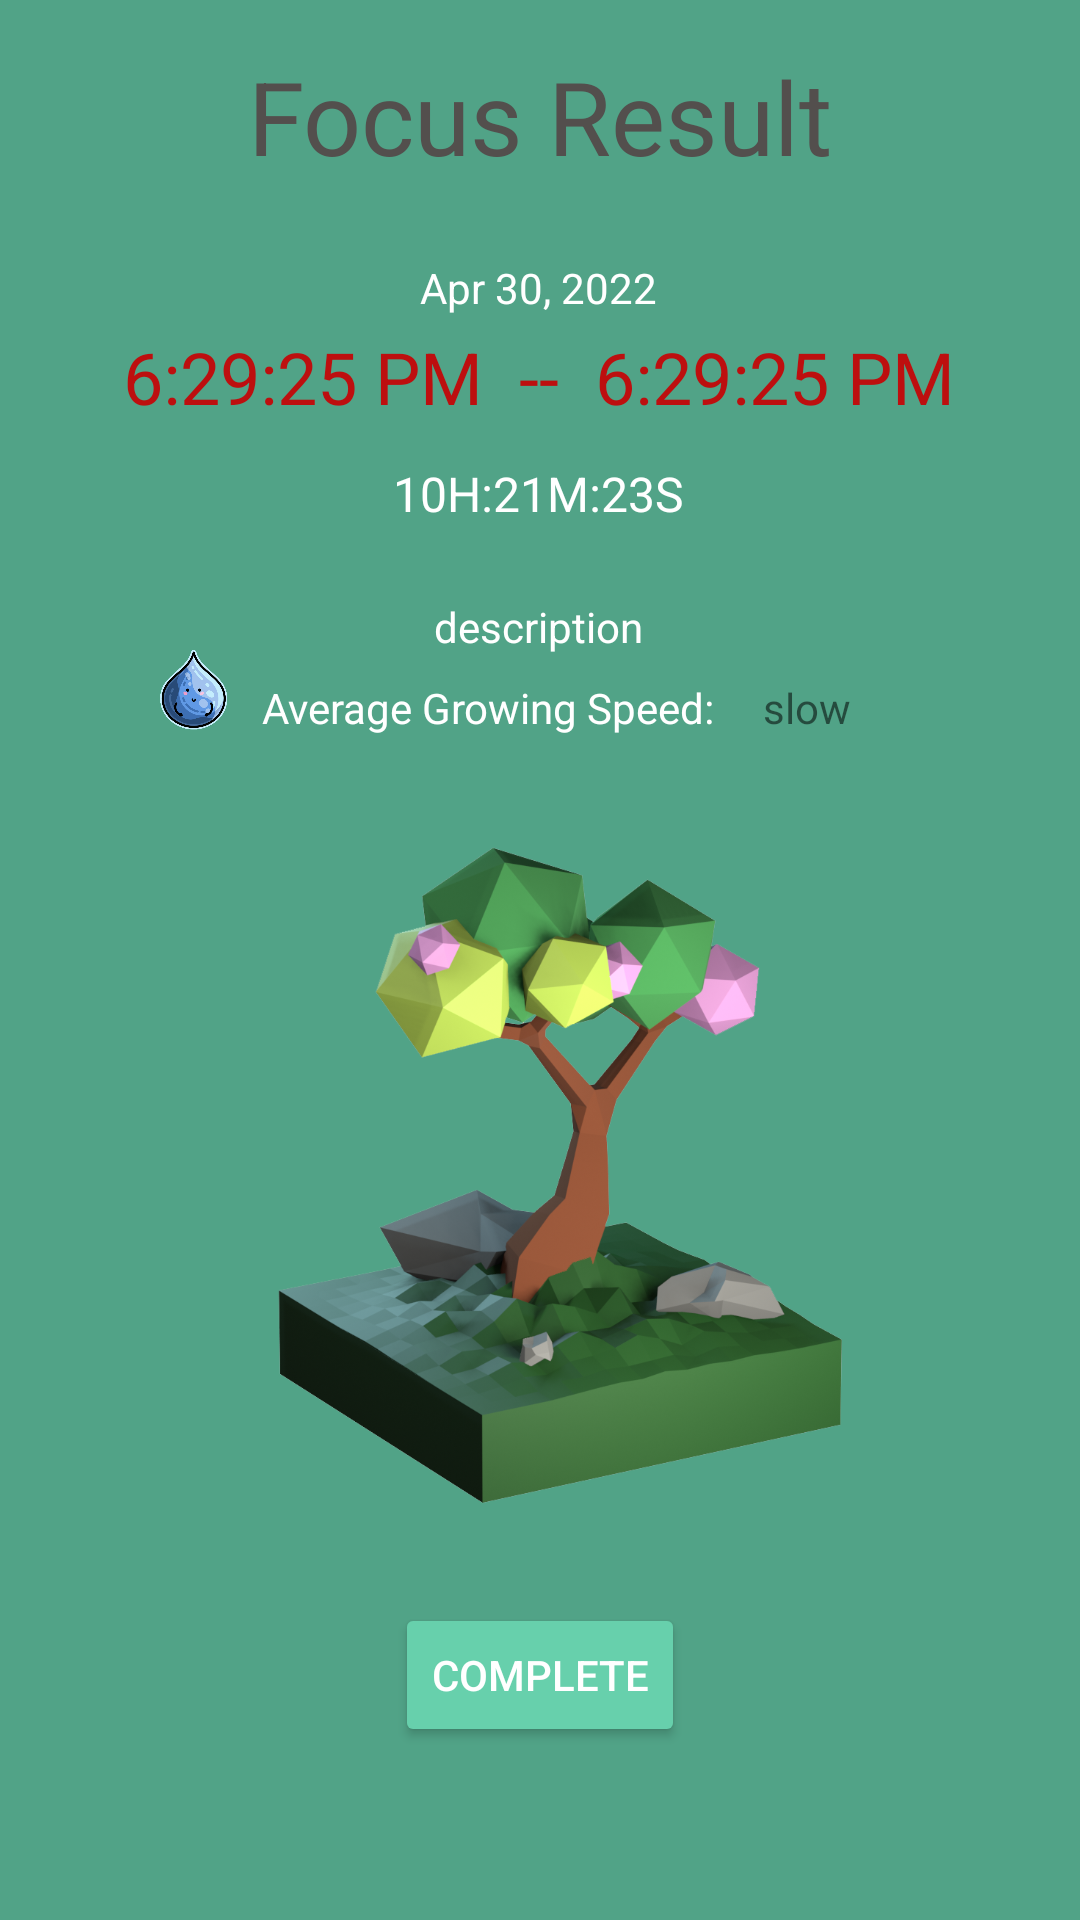

Locate icon controls on the screen. Image size 1080px×1920px, boxes as {"x1": x1, "y1": y1, "x2": x2, "y2": y2}.
waterdrop: {"x1": 160, "y1": 650, "x2": 227, "y2": 730}
